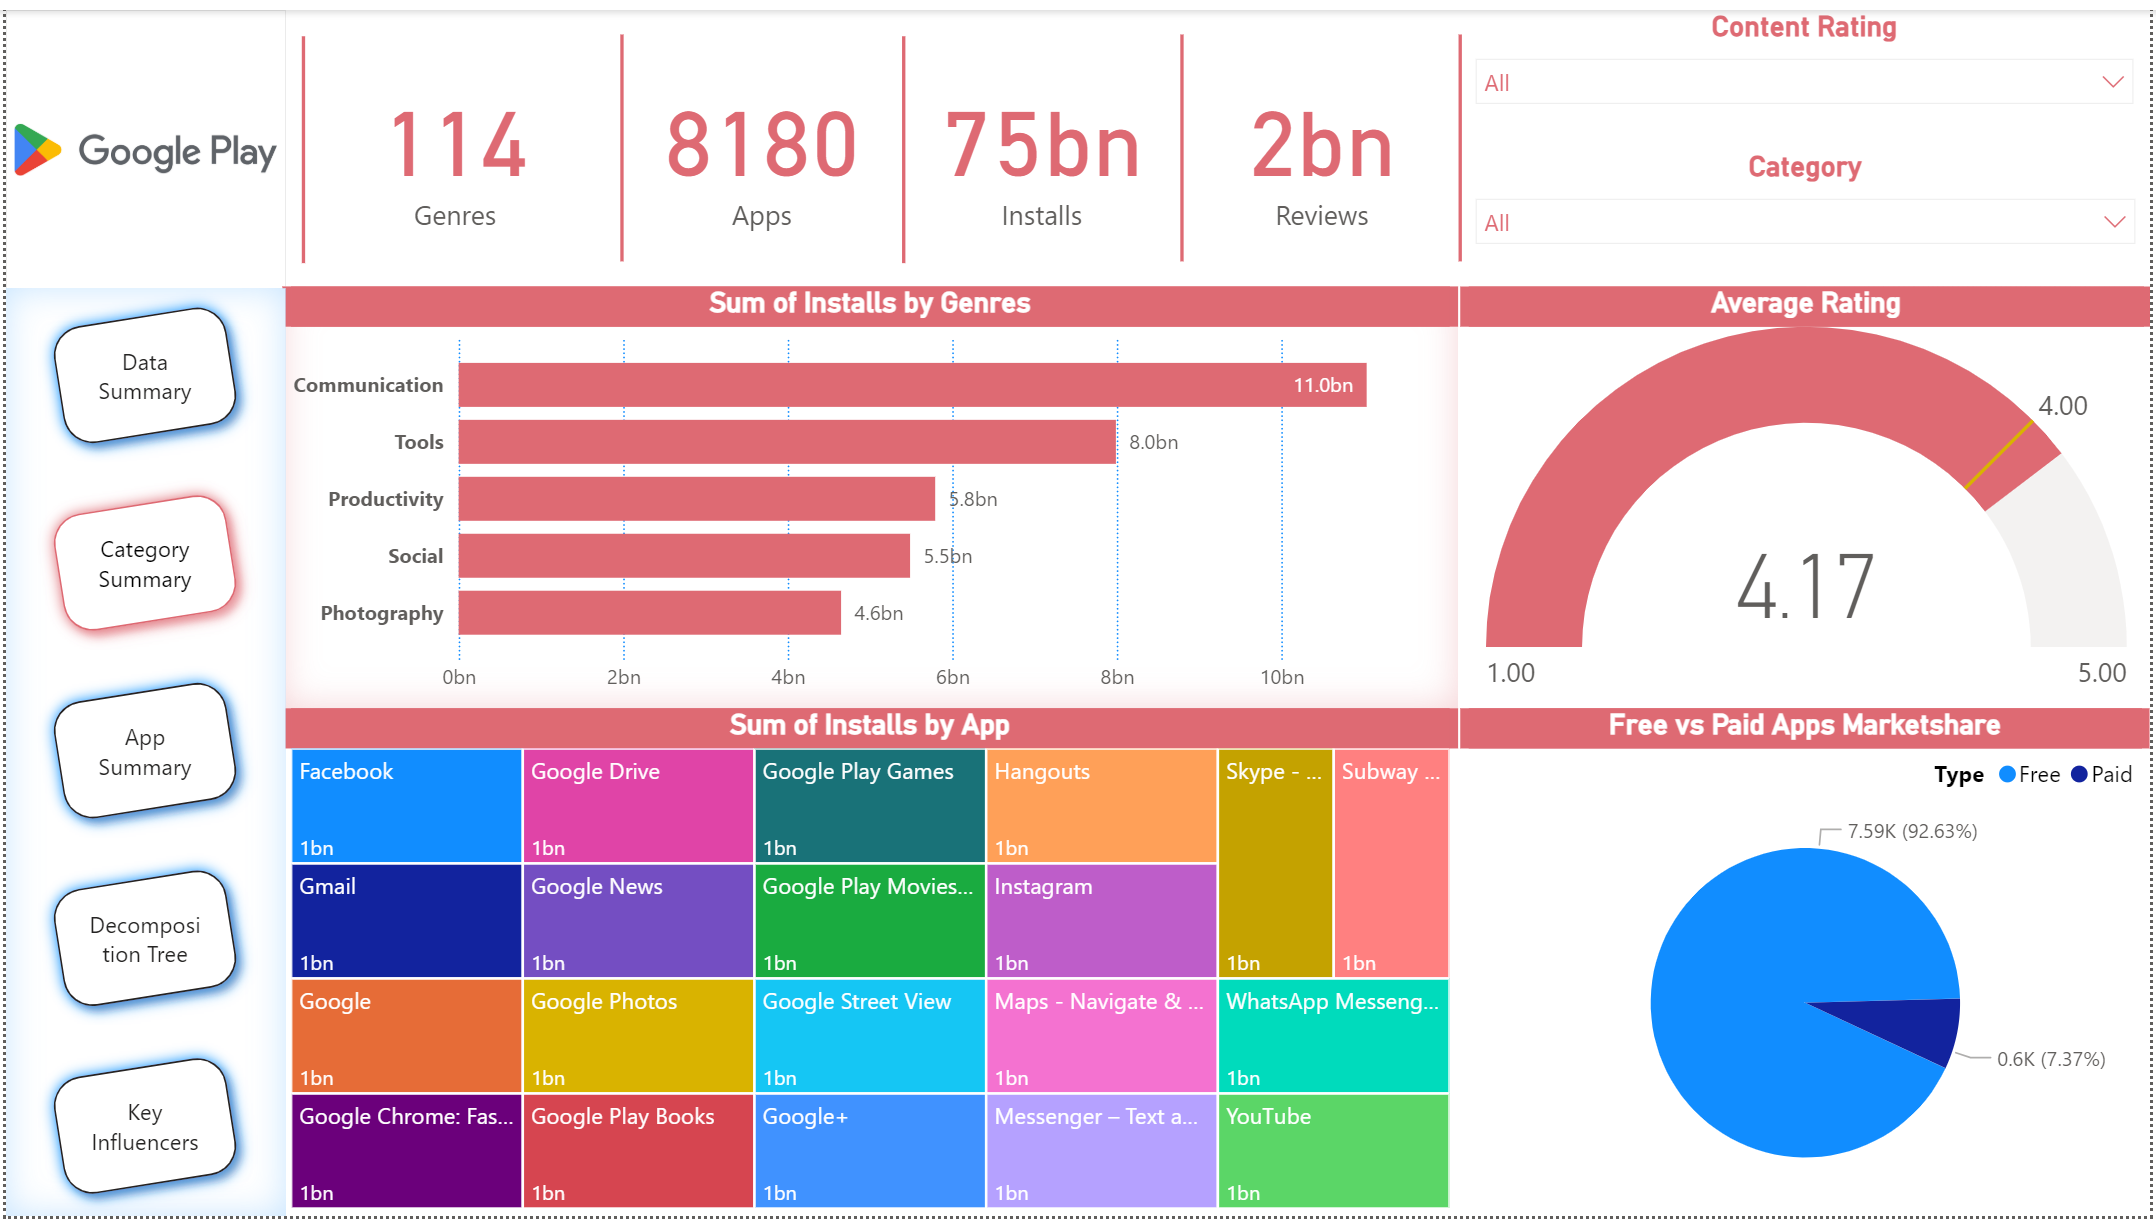

The page's visual inventory and layout, read from the dashboard file:
{"tool":"powerbi","page":{"name":"Category Summary","canvas":[1280,720],"ordinal":1},"visuals":[{"type":"image","box":[0,0,166.7,166.7],"z":0},{"type":"card","title":"Genres","fields":{"Values":["Count(Play Store Data.Genres)"]},"box":[166.7,0,201.5,166.7],"z":1000},{"type":"card","fields":{"Values":["Count(Play Store Data.App)"]},"box":[368.2,0,166.7,166.7],"z":2000},{"type":"card","fields":{"Values":["Sum(Play Store Data.Installs)"]},"box":[534.8,0,166.7,166.7],"z":3000},{"type":"card","fields":{"Values":["Sum(Play Store Data.Reviews)"]},"box":[701.5,0,166.7,166.7],"z":4000},{"type":"slicer","title":"Content Rating","fields":{"Values":["Play Store Data.Content Rating"]},"box":[867.4,0,413.1,83.7],"z":5000},{"type":"slicer","title":"Category","fields":{"Values":["Play Store Data.Category"]},"box":[866.9,83.3,414.2,82.1],"z":6000},{"type":"gauge","title":"Average Rating","fields":{"Y":["Avg(Play Store Data.Rating)"],"MinValue":["Min(Play Store Data.Rating)1"],"MaxValue":["Max(Play Store Data.Rating)2"],"TargetValue":["Play Store Data.Target Rating"]},"box":[868.1,165.4,412.9,251.2],"z":7000},{"type":"clusteredBarChart","fields":{"Category":["Play Store Data.Genres"],"Y":["Sum(Play Store Data.Installs)"]},"box":[165.4,165.4,701.5,251.2],"z":8000},{"type":"treemap","fields":{"Values":["Sum(Play Store Data.Installs)"],"Group":["Play Store Data.App"]},"box":[165.4,416.7,701.5,303.5],"z":9000},{"type":"pieChart","title":"Free vs Paid Apps Marketshare","fields":{"Category":["Play Store Data.Type"],"Y":["CountNonNull(Play Store Data.Type)"]},"box":[868.1,416.7,411.7,303.5],"z":10000},{"type":"shape","box":[148,16.2,58.5,135.6],"z":11000},{"type":"shape","box":[338.3,14.9,58.5,135.6],"z":12000},{"type":"shape","box":[506.2,16.2,58.5,135.6],"z":13000},{"type":"shape","box":[672.9,14.9,58.5,135.6],"z":14000},{"type":"shape","box":[838.3,14.9,58.5,135.6],"z":15000},{"type":"pageNavigator","box":[0,166.5,166.7,553.5],"z":16000}]}

Visuals, with their boxes in screenshot pixels (x1, y1, x2, y2), scaled from the page's 1280x720 canvas onto the 2156x1224 screenshot:
image: detection(0, 0, 281, 283)
"Genres" card: detection(281, 0, 620, 283)
card - Count(Play Store Data.App): detection(620, 0, 901, 283)
card - Sum(Play Store Data.Installs): detection(901, 0, 1182, 283)
card - Sum(Play Store Data.Reviews): detection(1182, 0, 1462, 283)
"Content Rating" slicer: detection(1461, 0, 2155, 142)
"Category" slicer: detection(1460, 142, 2155, 281)
"Average Rating" gauge: detection(1462, 281, 2155, 708)
clusteredBarChart - Play Store Data.Genres x Sum(Play Store Data.Installs): detection(279, 281, 1460, 708)
treemap - Sum(Play Store Data.Installs) x Play Store Data.App: detection(279, 708, 1460, 1223)
"Free vs Paid Apps Marketshare" pieChart: detection(1462, 708, 2155, 1223)
shape: detection(249, 28, 348, 258)
shape: detection(570, 25, 668, 256)
shape: detection(853, 28, 951, 258)
shape: detection(1133, 25, 1232, 256)
shape: detection(1412, 25, 1511, 256)
pageNavigator: detection(0, 283, 281, 1223)
